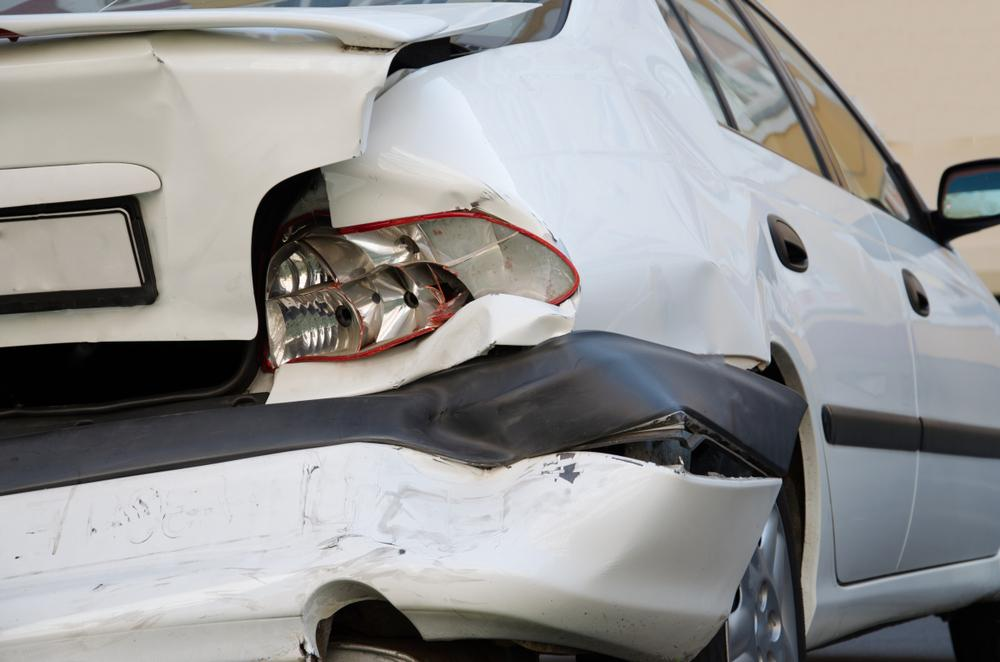dent: (377, 342, 686, 596), (366, 294, 572, 383), (585, 264, 766, 355)
lamp broken: (263, 214, 583, 368)
scratch: (0, 464, 371, 653)
